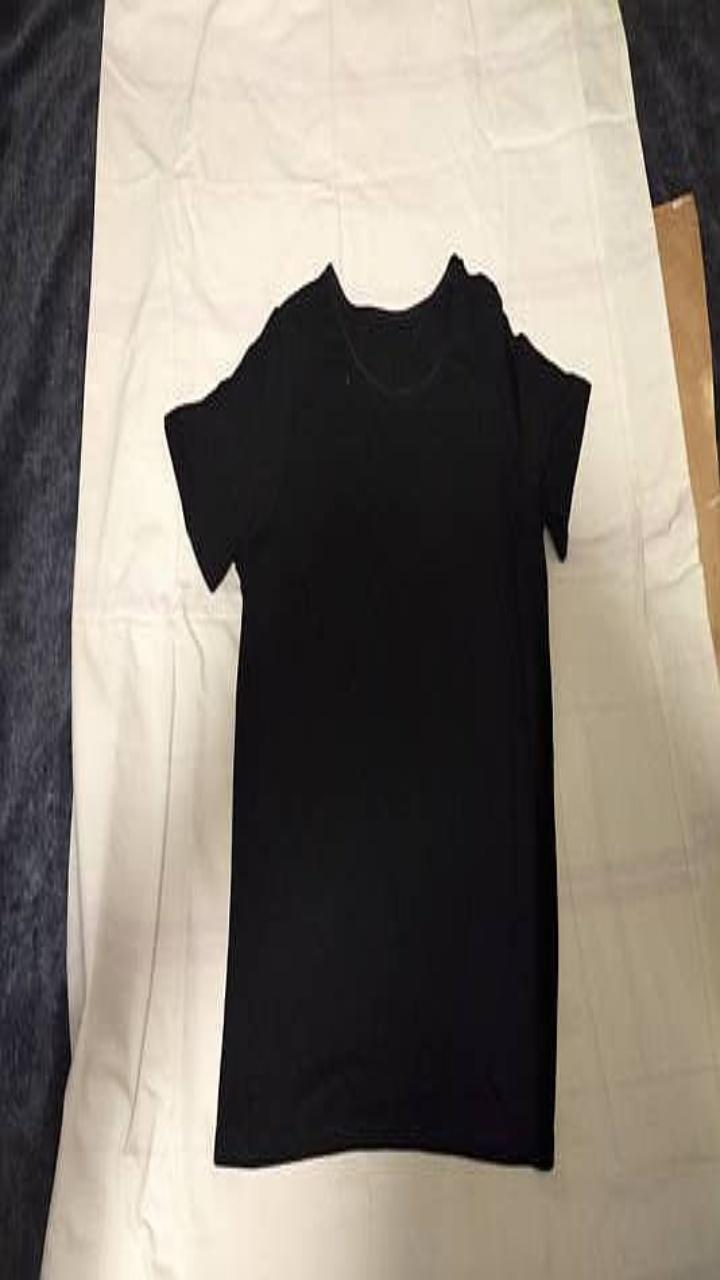T-Shirt: (165, 253, 589, 1168)
